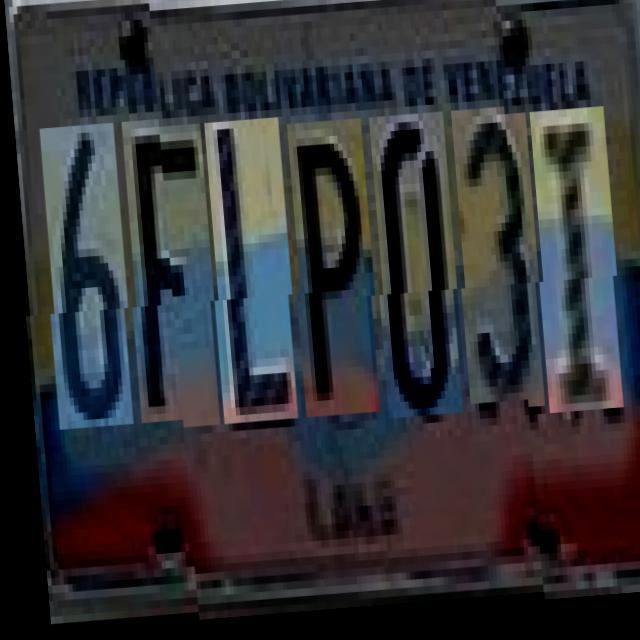0: (366, 120, 459, 424)
3: (448, 114, 542, 412)
6: (38, 132, 130, 438)
F: (120, 127, 216, 432)
I: (526, 109, 620, 414)
L: (202, 122, 294, 427)
P: (284, 124, 378, 422)
